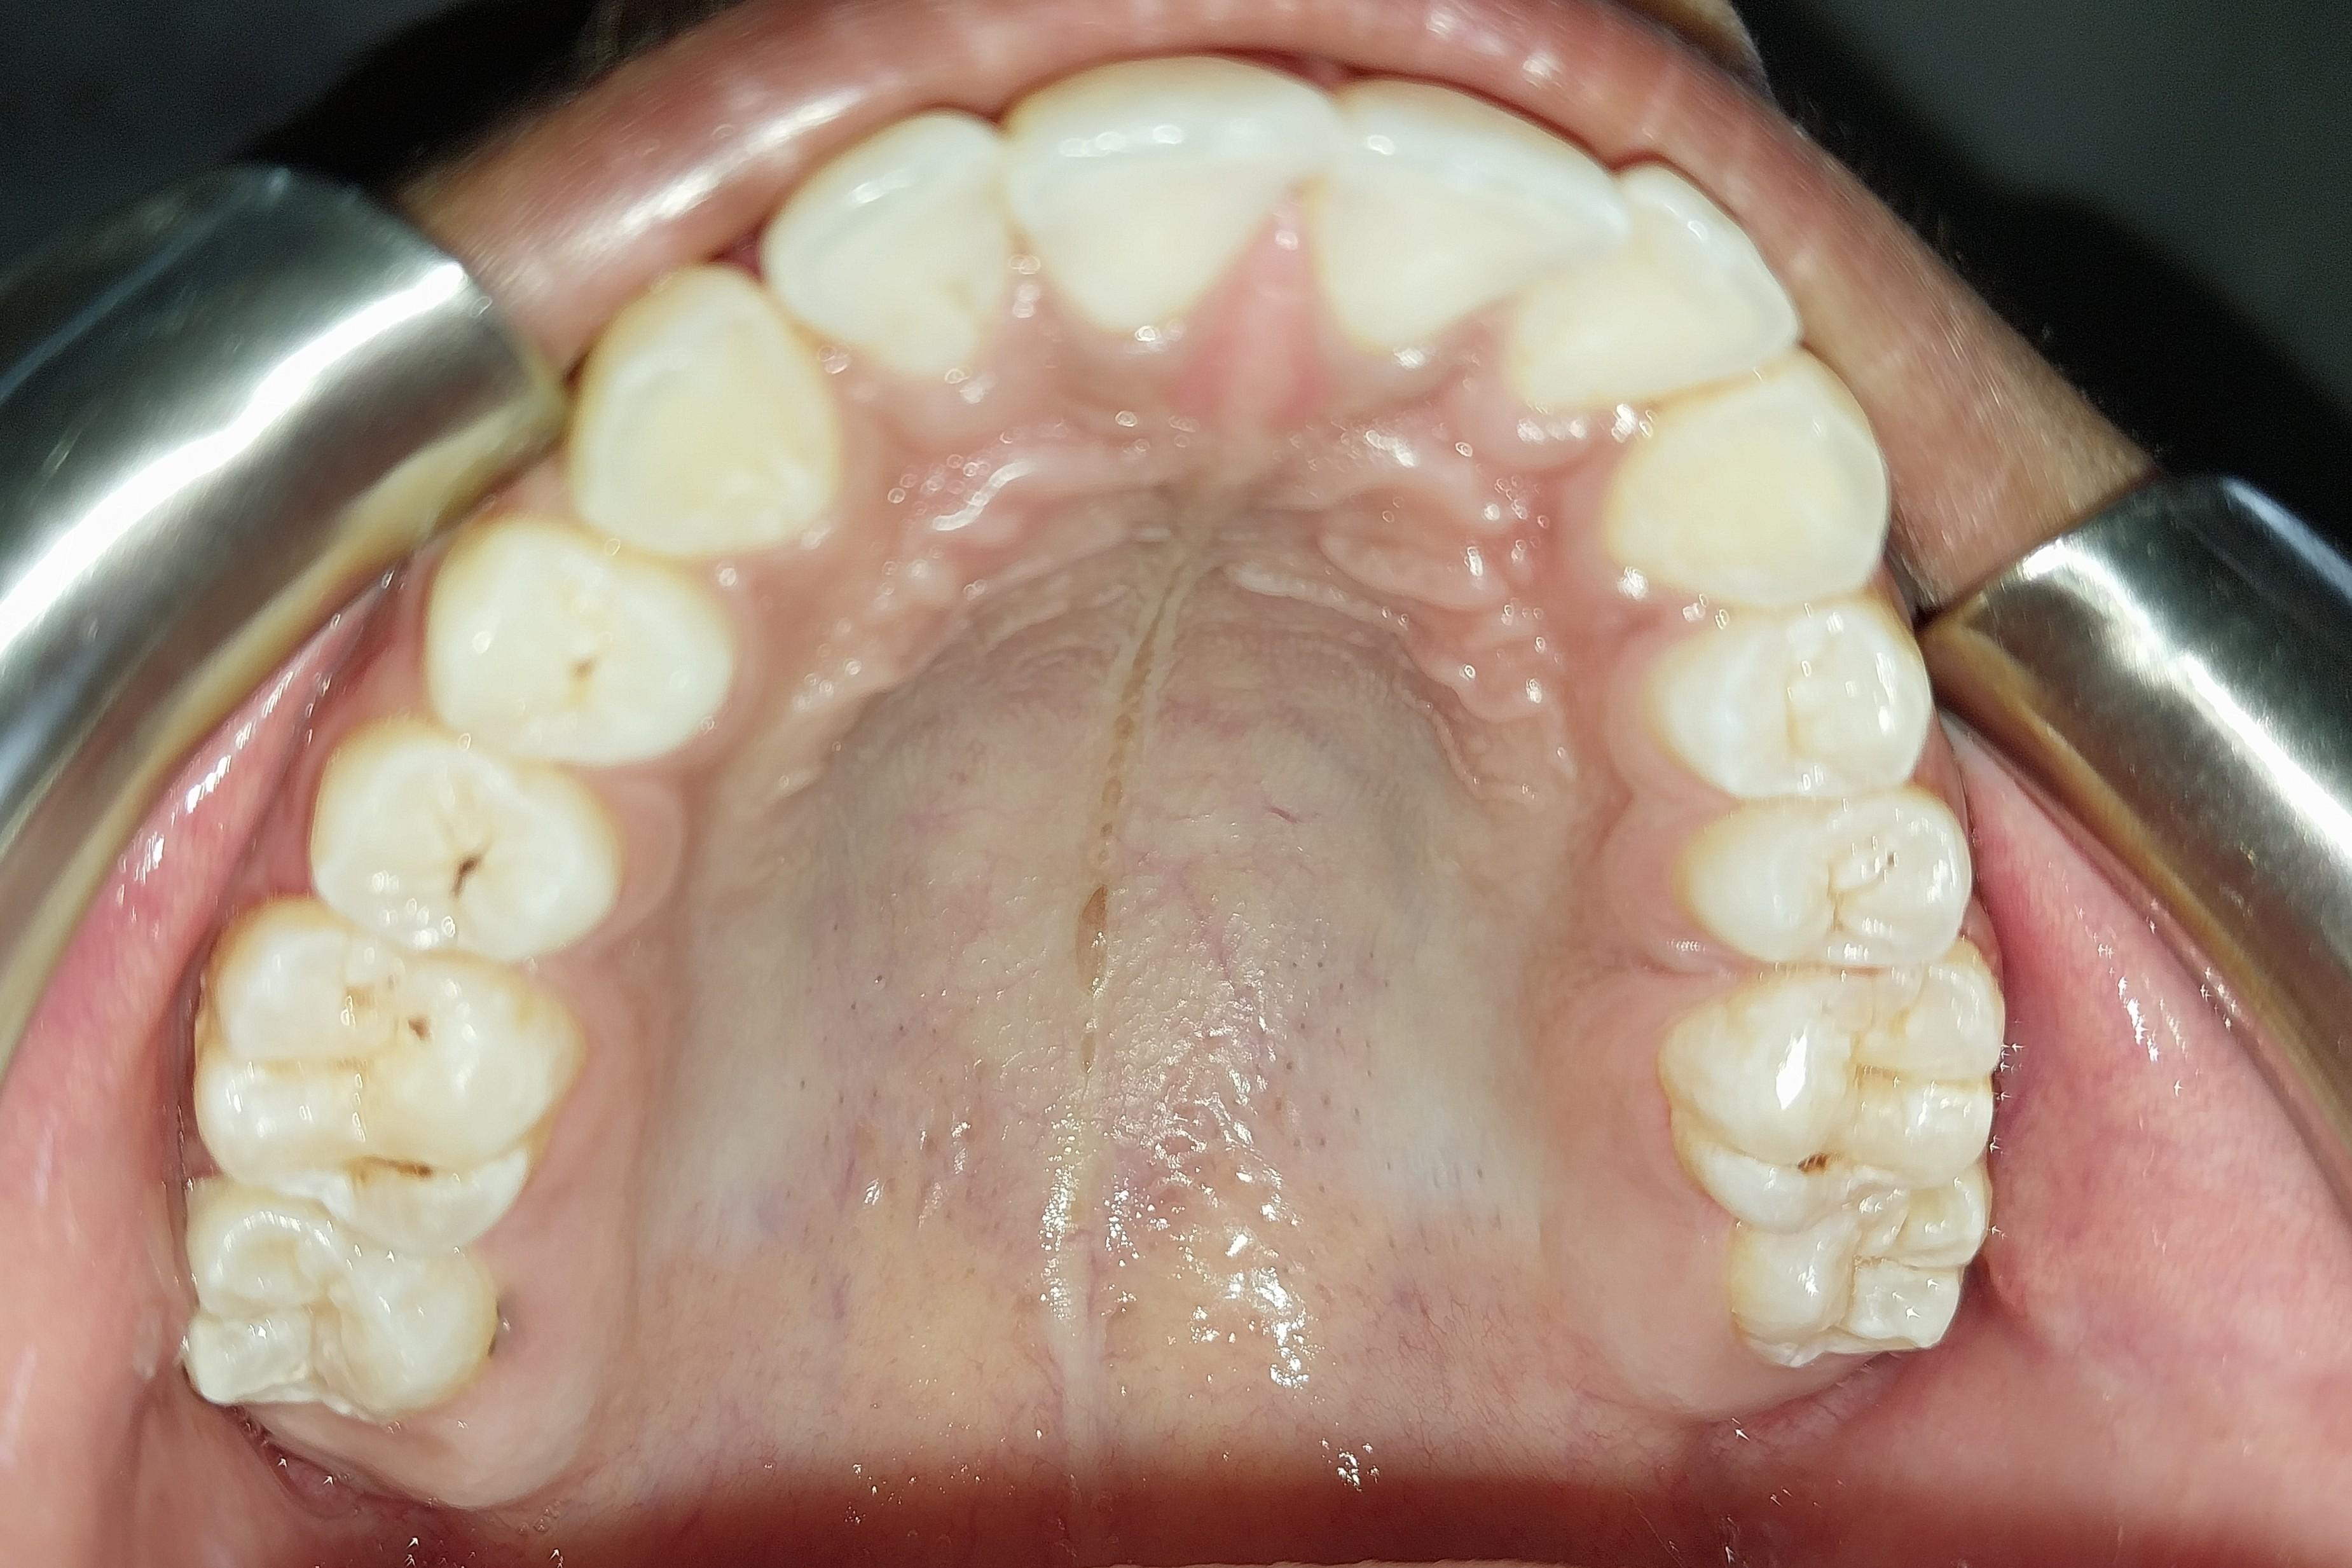D: (202, 905, 556, 1248), (1675, 963, 2004, 1212), (321, 719, 602, 959)
